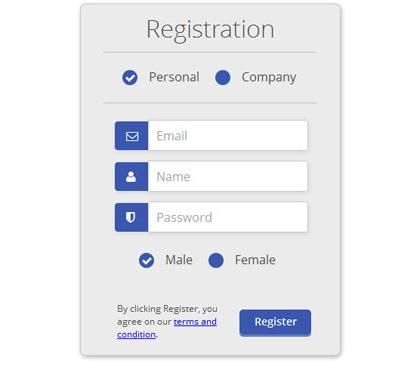button: (239, 308, 314, 338)
field: (112, 119, 309, 152), (114, 160, 310, 193), (113, 202, 310, 234)
radio: (121, 67, 140, 88), (208, 250, 225, 270), (137, 251, 155, 269), (215, 68, 231, 87)
radio_with_label: (118, 65, 201, 89), (213, 66, 298, 88), (206, 248, 279, 271), (135, 249, 194, 271)
